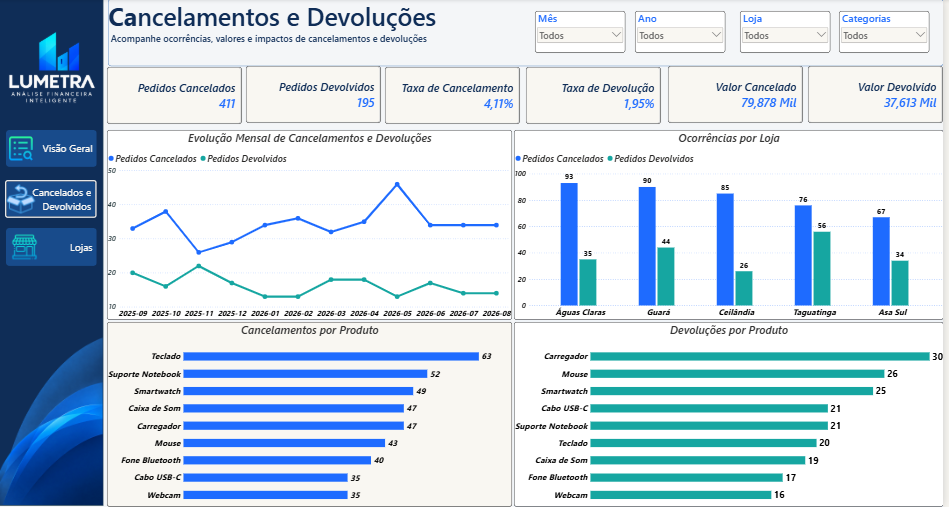

Layout of this report page (visuals, bound fields, positions):
{"tool":"powerbi","page":{"name":"Cancelados e Devolvidos","canvas":[2741,1475],"ordinal":1},"visuals":[{"type":"shape","box":[0,0,302.8,1470.9],"z":0},{"type":"cardVisual","fields":{"Data":["base_financeira_powerbi.Pedidos Cancelados"]},"box":[312.4,197.5,390.9,165.1],"z":1000},{"type":"textbox","box":[315.4,0,2425.6,194.5],"z":2000},{"type":"slicer","title":"M","fields":{"Values":["base_financeira_powerbi.Mes"]},"box":[1556.2,35.4,262.3,120.8],"z":3000},{"type":"lineChart","title":"Evolução Mensal de Cancelamentos e Devoluções","fields":{"Category":["base_financeira_powerbi.Ano Mes"],"Y":["base_financeira_powerbi.Pedidos Cancelados","base_financeira_powerbi.Pedidos Devolvidos"]},"box":[312.4,380.2,1176,551.1],"z":4000},{"type":"clusteredColumnChart","title":"Ocorrências por Loja","fields":{"Category":["base_financeira_powerbi.loja"],"Y":["base_financeira_powerbi.Pedidos Cancelados","base_financeira_powerbi.Pedidos Devolvidos"]},"box":[1494.3,380.2,1246.7,551.1],"z":5000},{"type":"barChart","title":"Cancelamentos por Produto","fields":{"Category":["base_financeira_powerbi.produto"],"Y":["base_financeira_powerbi.Pedidos Cancelados"]},"box":[312.4,937.2,1176,536.4],"z":6000},{"type":"clusteredBarChart","title":"Devoluções por Produto","fields":{"Category":["base_financeira_powerbi.produto"],"Y":["base_financeira_powerbi.Pedidos Devolvidos"]},"box":[1494.3,937.2,1246.7,536.4],"z":7000},{"type":"actionButton","title":"Visão Geral","box":[20.3,379.3,263.5,107.1],"z":8000},{"type":"image","box":[29.5,394.9,69.5,78.2],"z":9000},{"type":"image","box":[0,24.5,302.8,339.4],"z":10000},{"type":"actionButton","title":"Visão Geral","box":[17.4,524.1,266.4,110],"z":11000},{"type":"actionButton","title":"Visão Geral","box":[20.3,666,263.5,110],"z":12000},{"type":"image","box":[29,666,89.8,110],"z":14000},{"type":"image","box":[17.7,524.6,91.4,109.1],"z":15000},{"type":"image","box":[0,932.4,301.1,538.6],"z":17000},{"type":"slicer","title":"M","fields":{"Values":["base_financeira_powerbi.Ano"]},"box":[1848,35.4,262.3,120.8],"z":18000},{"type":"slicer","title":"M","fields":{"Values":["base_financeira_powerbi.loja"]},"box":[2151.5,35.4,262.3,120.8],"z":19000},{"type":"slicer","title":"M","fields":{"Values":["base_financeira_powerbi.categoria"]},"box":[2440.4,35.4,262.3,120.8],"z":20000},{"type":"cardVisual","fields":{"Data":["base_financeira_powerbi.Pedidos Devolvidos"]},"box":[716.2,194.5,390.9,165.1],"z":21000},{"type":"cardVisual","fields":{"Data":["base_financeira_powerbi.Taxa de Cancelamento"]},"box":[1120,197.5,390.9,165.1],"z":22000},{"type":"cardVisual","fields":{"Data":["base_financeira_powerbi.Taxa de Devolução"]},"box":[1529.7,197.5,390.9,165.1],"z":23000},{"type":"cardVisual","fields":{"Data":["base_financeira_powerbi.Valor Cancelado"]},"box":[1942.3,194.5,390.9,165.1],"z":24000},{"type":"cardVisual","fields":{"Data":["base_financeira_powerbi.Valor Devolvido"]},"box":[2349,194.5,390.9,165.1],"z":25000}]}

Visuals, with their boxes in screenshot pixels (x1, y1, x2, y2), scaled from the page's 2741x1475 canvas onto the 949x507 screenshot:
shape: rect(0, 0, 105, 506)
cardVisual - base_financeira_powerbi.Pedidos Cancelados: rect(108, 68, 243, 125)
textbox: rect(109, 0, 948, 67)
"M" slicer: rect(539, 12, 630, 54)
"Evolução Mensal de Cancelamentos e Devoluções" lineChart: rect(108, 131, 515, 320)
"Ocorrências por Loja" clusteredColumnChart: rect(517, 131, 948, 320)
"Cancelamentos por Produto" barChart: rect(108, 322, 515, 506)
"Devoluções por Produto" clusteredBarChart: rect(517, 322, 948, 506)
"Visão Geral" actionButton: rect(7, 130, 98, 167)
image: rect(10, 136, 34, 163)
image: rect(0, 8, 105, 125)
"Visão Geral" actionButton: rect(6, 180, 98, 218)
"Visão Geral" actionButton: rect(7, 229, 98, 267)
image: rect(10, 229, 41, 267)
image: rect(6, 180, 38, 218)
image: rect(0, 320, 104, 506)
"M" slicer: rect(640, 12, 731, 54)
"M" slicer: rect(745, 12, 836, 54)
"M" slicer: rect(845, 12, 936, 54)
cardVisual - base_financeira_powerbi.Pedidos Devolvidos: rect(248, 67, 383, 124)
cardVisual - base_financeira_powerbi.Taxa de Cancelamento: rect(388, 68, 523, 125)
cardVisual - base_financeira_powerbi.Taxa de Devolução: rect(530, 68, 665, 125)
cardVisual - base_financeira_powerbi.Valor Cancelado: rect(672, 67, 808, 124)
cardVisual - base_financeira_powerbi.Valor Devolvido: rect(813, 67, 948, 124)
